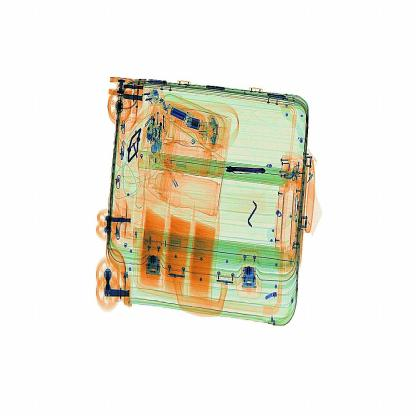knife: (219, 149, 275, 185)
